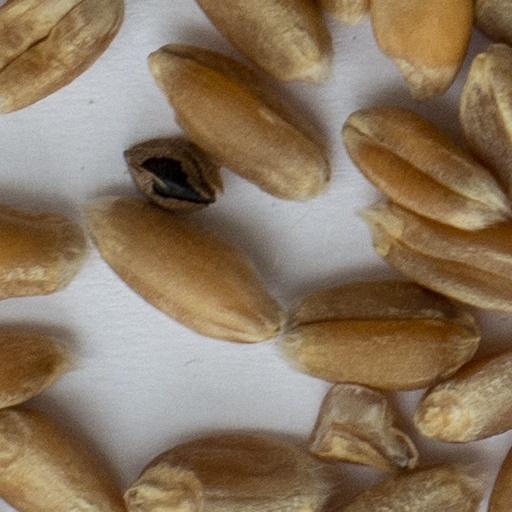Fallopia-Convolvulus-poly: (125, 138, 218, 212)
Wheat-grain-damaged-poly: (311, 383, 416, 469)
Wheat-grain-poly: (81, 196, 282, 341), (0, 0, 122, 112), (0, 204, 87, 298)
